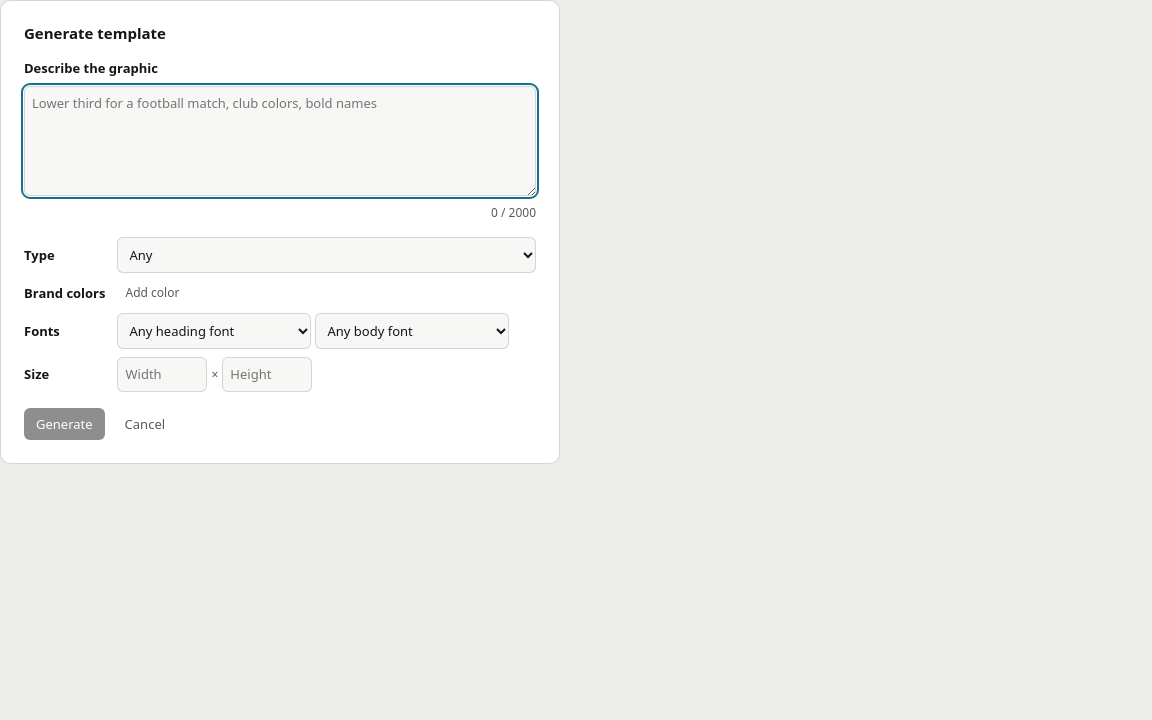
Test case: Generate template › explains a used-up quota with its reset date and keeps a too-long text
Type "Bug" into the text box labelled "Describe the graphic" at (280, 141), box 24,86 -> 536,196
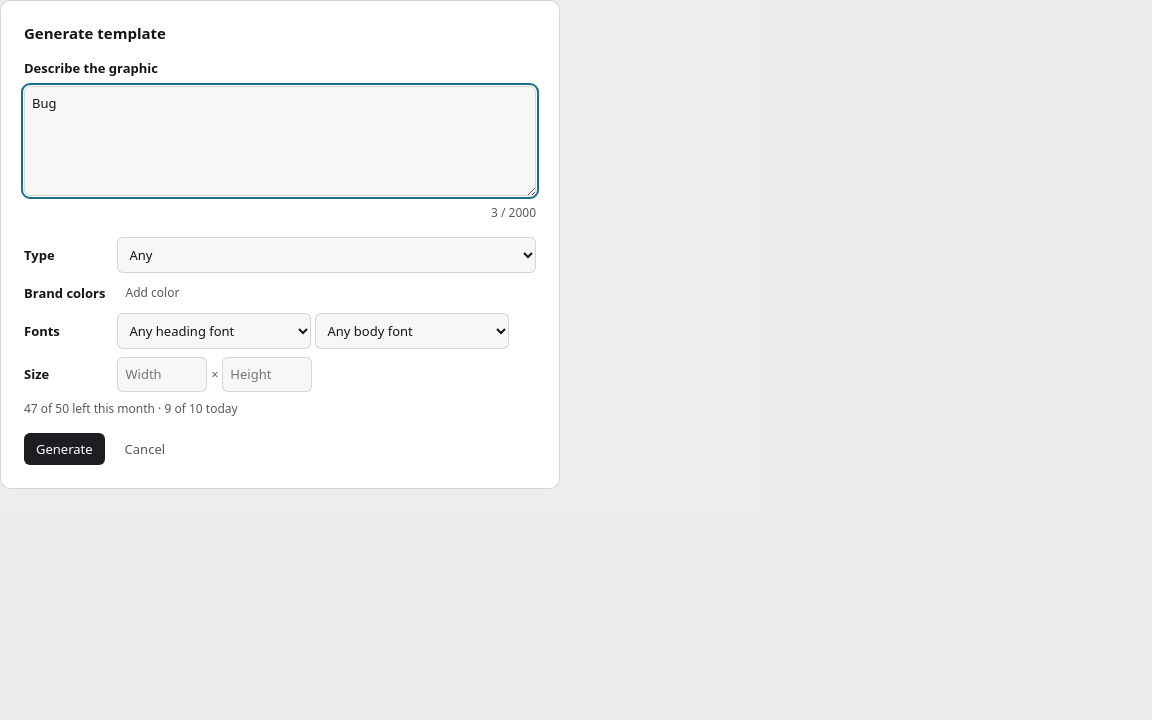
Click the button "Generate" at (64, 449), box 24,433 -> 105,465
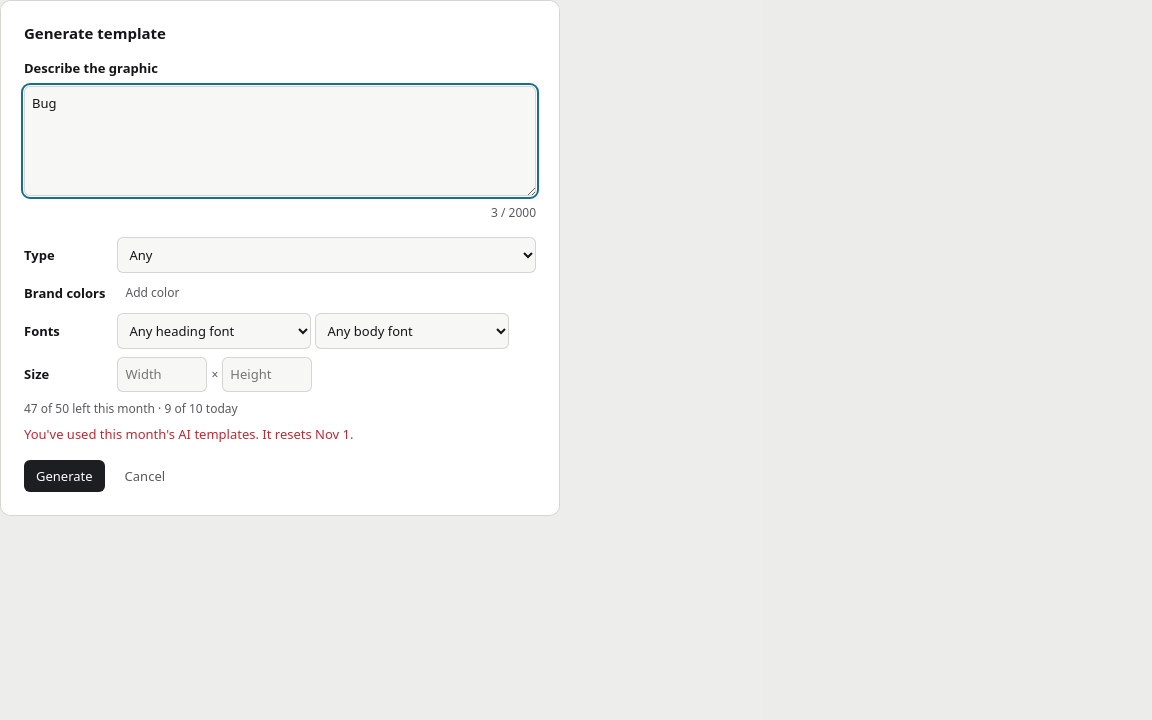
Expected: the message reads "You've used this month's AI templates. It resets Nov 1.", 24,425 -> 354,443
Click the button "Generate" at (64, 476), box 24,460 -> 105,492
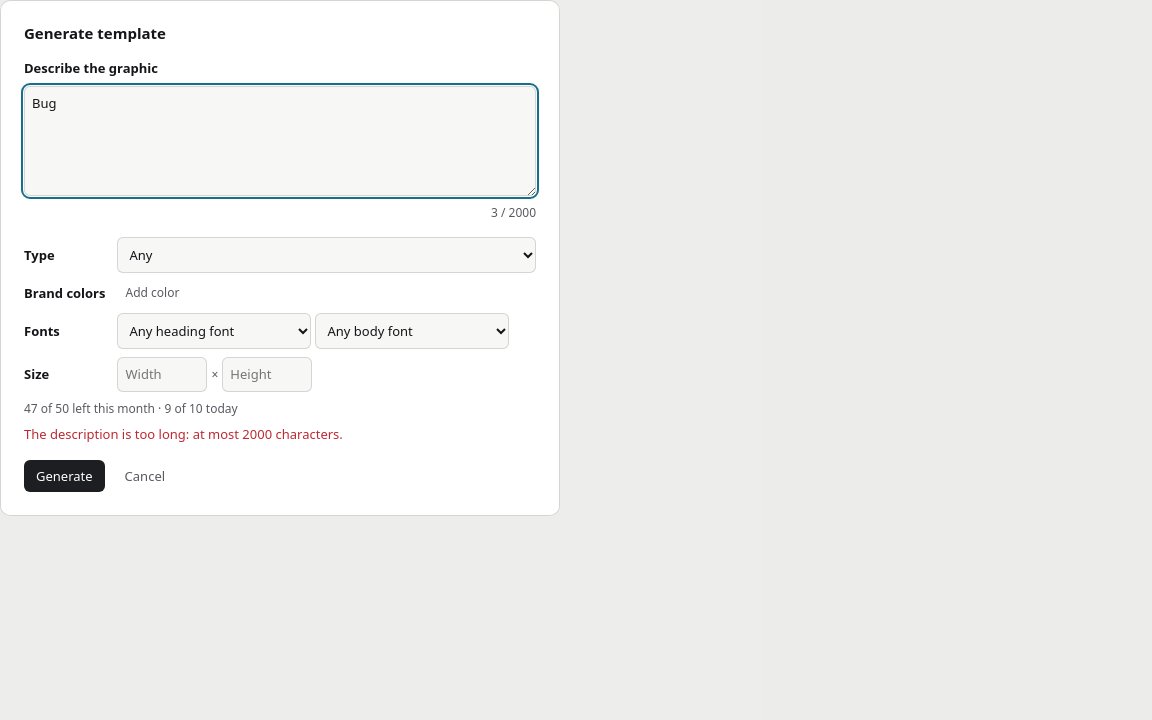
Expected: the message shows "too long", 24,425 -> 343,443
